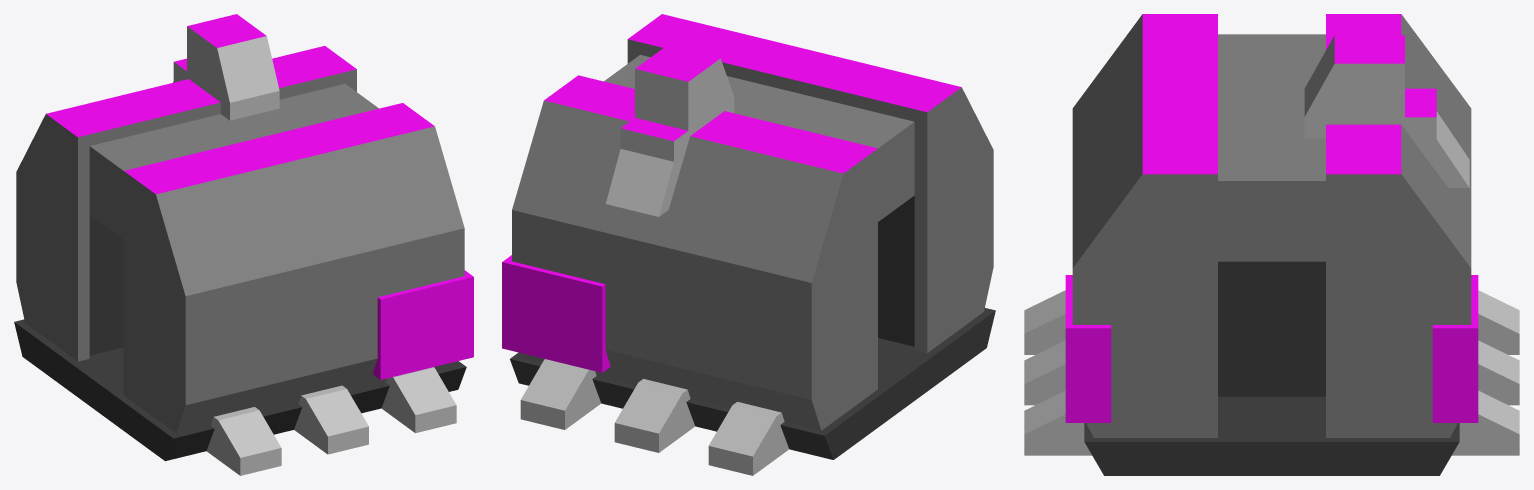
Rendered from Factory.fbx.
3 views of the same model, side by side, from view 1: azimuth 30°, elevation 25°; view 2: azimuth 150°, elevation 25°; view 3: azimuth 270°, elevation 25° (orthographic). The views are drawn at different scales.
Visible parts, largest first — view 1: Cube.019, Cube.020, Cube.023, Cube.021, Cube.022, Cube.024; view 2: Cube.019, Cube.020, Cube.023, Cube.024, Cube.021, Cube.022; view 3: Cube.019, Cube.020, Cube.021, Cube.023, Cube.024, Cube.022.
Boxes of the visible parts, <box> form: Cube.019: <box>16,46,464,433</box>; Cube.020: <box>89,84,378,355</box>; Cube.023: <box>206,367,456,475</box>; Cube.021: <box>14,319,466,461</box>; Cube.022: <box>373,270,473,379</box>; Cube.024: <box>173,14,279,120</box>; Cube.019: <box>512,14,993,430</box>; Cube.020: <box>604,54,914,346</box>; Cube.023: <box>520,359,788,475</box>; Cube.024: <box>605,45,734,216</box>; Cube.021: <box>510,308,995,459</box>; Cube.022: <box>502,255,610,372</box>; Cube.019: <box>1072,14,1471,437</box>; Cube.020: <box>1218,34,1325,396</box>; Cube.021: <box>1084,396,1459,475</box>; Cube.023: <box>1024,290,1519,455</box>; Cube.024: <box>1304,35,1469,187</box>; Cube.022: <box>1065,275,1478,422</box>.
Bounding box in the file's own units: 255 × 254 × 317.
